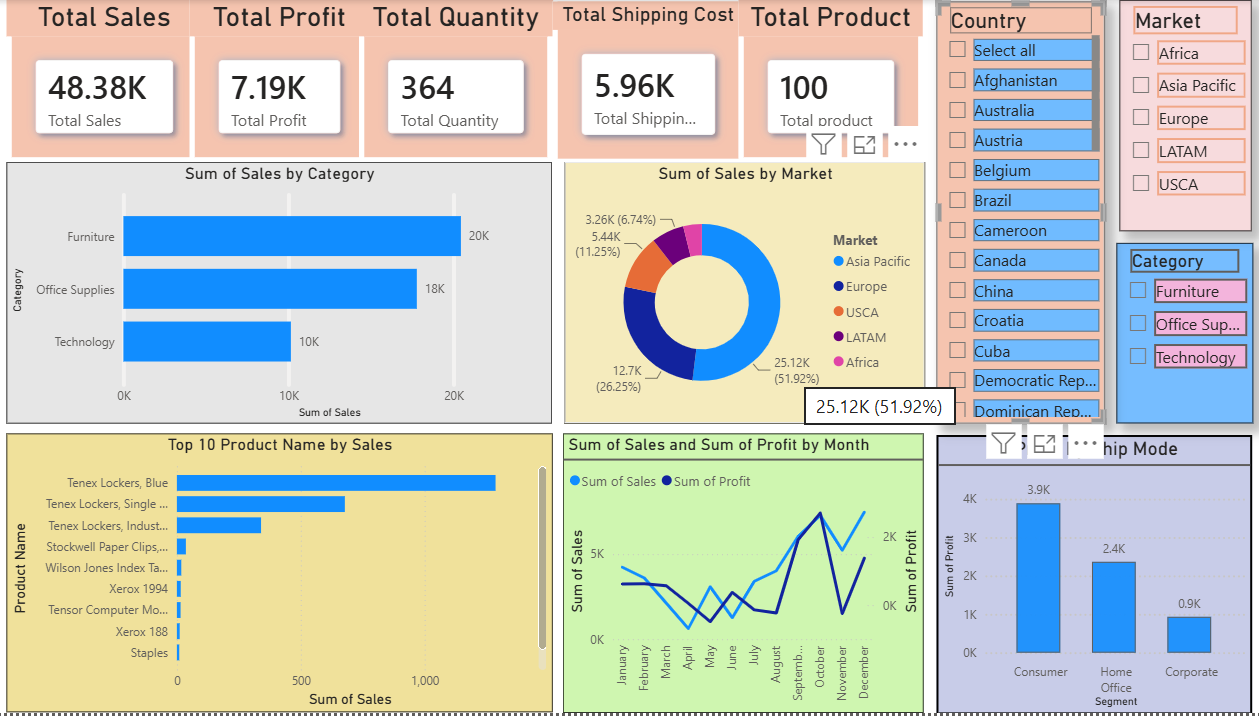

Layout of this report page (visuals, bound fields, positions):
{"tool":"powerbi","page":{"name":"Dashboard","canvas":[1280,720],"ordinal":0},"visuals":[{"type":"cardVisual","title":" Total Sales","fields":{"Data":["Sum(Global_Superstore_100.Sales)"]},"box":[11.3,0,197.5,163.5],"z":0},{"type":"cardVisual","title":" Total Profit","fields":{"Data":["Sum(Global_Superstore_100.Profit)"]},"box":[195.9,0,181.4,163.5],"z":1000},{"type":"cardVisual","title":" Total Quantity","fields":{"Data":["Sum(Global_Superstore_100.Quantity)"]},"box":[365.9,0,195.9,163.5],"z":2000},{"type":"cardVisual","title":" Total Shipping Cost","fields":{"Data":["Sum(Global_Superstore_100.Shipping Cost)"]},"box":[561.8,1.5,193.8,163.5],"z":3000},{"type":"cardVisual","title":" Total Product","fields":{"Data":["CountNonNull(Global_Superstore_100.Product ID)"]},"box":[749.5,0,186.2,163.5],"z":4000},{"type":"clusteredBarChart","fields":{"Category":["Global_Superstore_100.Category"],"Y":["Sum(Global_Superstore_100.Sales)"]},"box":[11.3,163.5,550.5,263.9],"z":5000},{"type":"donutChart","fields":{"Category":["Global_Superstore_100.Market"],"Y":["Sum(Global_Superstore_100.Sales)"]},"box":[573.2,163.5,364.3,263.9],"z":6000},{"type":"clusteredBarChart","title":"Top 10 Product Name by Sales","fields":{"Category":["Global_Superstore_100.Product Name"],"Y":["Sum(Global_Superstore_100.Sales)"]},"box":[10.6,437.6,551.2,281.6],"z":7000},{"type":"slicer","fields":{"Values":["Global_Superstore_100.Country"]},"box":[948.9,1.6,170,425.9],"z":8000},{"type":"slicer","fields":{"Values":["Global_Superstore_100.Market"]},"box":[1134.1,0,133.3,233.2],"z":9000},{"type":"columnChart","title":"Profit by Ship Mode","fields":{"Category":["Global_Superstore_100.Segment"],"Y":["Sum(Global_Superstore_100.Profit)"]},"box":[948.9,438.8,319,281.7],"z":10000},{"type":"slicer","fields":{"Values":["Global_Superstore_100.Category"]},"box":[1131.1,245.3,137.8,181.7],"z":11000},{"type":"lineChart","fields":{"Category":["Global_Superstore_100.Order Date.Variation.Date Hierarchy.Month"],"Y":["Sum(Global_Superstore_100.Sales)"],"Y2":["Sum(Global_Superstore_100.Profit)"]},"box":[573,438,364,282],"z":11001}]}

Visuals, with their boxes in screenshot pixels (x1, y1, x2, y2), scaled from the page's 1280x720 canvas onto the 1259x718 screenshot:
" Total Sales" cardVisual: 11,0,205,163
" Total Profit" cardVisual: 193,0,371,163
" Total Quantity" cardVisual: 360,0,553,163
" Total Shipping Cost" cardVisual: 553,1,743,165
" Total Product" cardVisual: 737,0,920,163
clusteredBarChart - Global_Superstore_100.Category x Sum(Global_Superstore_100.Sales): 11,163,553,426
donutChart - Global_Superstore_100.Market x Sum(Global_Superstore_100.Sales): 564,163,922,426
"Top 10 Product Name by Sales" clusteredBarChart: 10,436,553,717
slicer - Global_Superstore_100.Country: 933,2,1101,426
slicer - Global_Superstore_100.Market: 1115,0,1247,233
"Profit by Ship Mode" columnChart: 933,438,1247,717
slicer - Global_Superstore_100.Category: 1113,245,1248,426
lineChart - Global_Superstore_100.Order Date.Variation.Date Hierarchy.Month x Sum(Global_Superstore_100.Sales): 564,437,922,717
